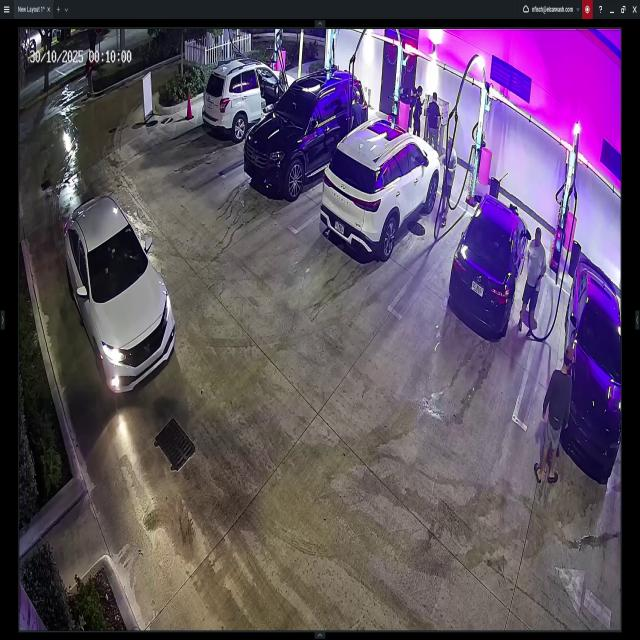Car: (64, 195, 176, 393), (322, 119, 438, 264), (242, 70, 368, 188), (565, 258, 622, 484), (449, 196, 529, 334), (201, 56, 294, 140)
